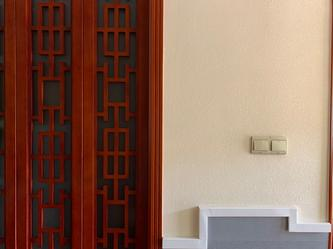switch: (253, 139, 271, 151), (270, 140, 288, 152)
